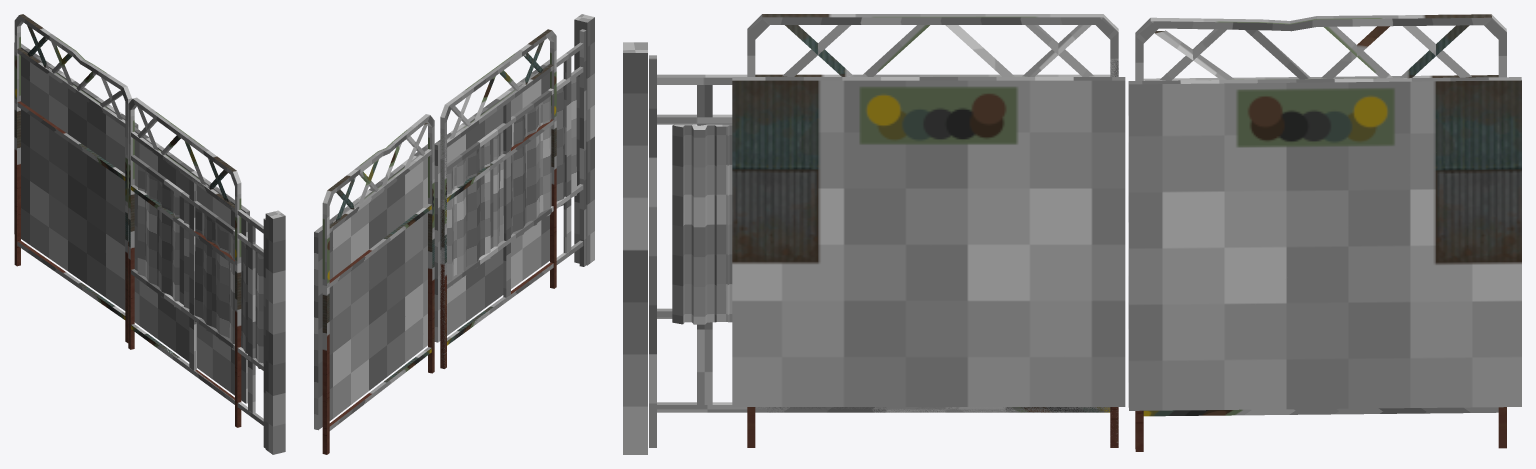
File: bz_gates_01.fbx
The picture shows the model from 3 angles, left to right: view 1: azimuth 30°, elevation 25°; view 2: azimuth 150°, elevation 25°; view 3: azimuth 270°, elevation 25°; orthographic projection. The views are drawn at different scales.
Visible parts, largest first — view 1: bz_gates_02, bz_gates_01, bz_gates_03, bz_gates_04; view 2: bz_gates_02, bz_gates_01, bz_gates_03, bz_gates_04; view 3: bz_gates_02, bz_gates_01, bz_gates_03, bz_gates_04.
Part boxes in pixels (x1,y1,x2,y2): bz_gates_02: (14, 14, 138, 342); bz_gates_01: (128, 97, 249, 427); bz_gates_03: (131, 132, 285, 454); bz_gates_04: (137, 165, 263, 368); bz_gates_02: (314, 114, 434, 454); bz_gates_01: (434, 29, 556, 368); bz_gates_03: (440, 14, 594, 368); bz_gates_04: (447, 77, 576, 286); bz_gates_02: (1128, 14, 1521, 451); bz_gates_01: (732, 14, 1125, 447); bz_gates_03: (623, 42, 1118, 454); bz_gates_04: (672, 124, 732, 324).
Size of the model in its own units: 0.1674 by 2.9 by 5.49.
